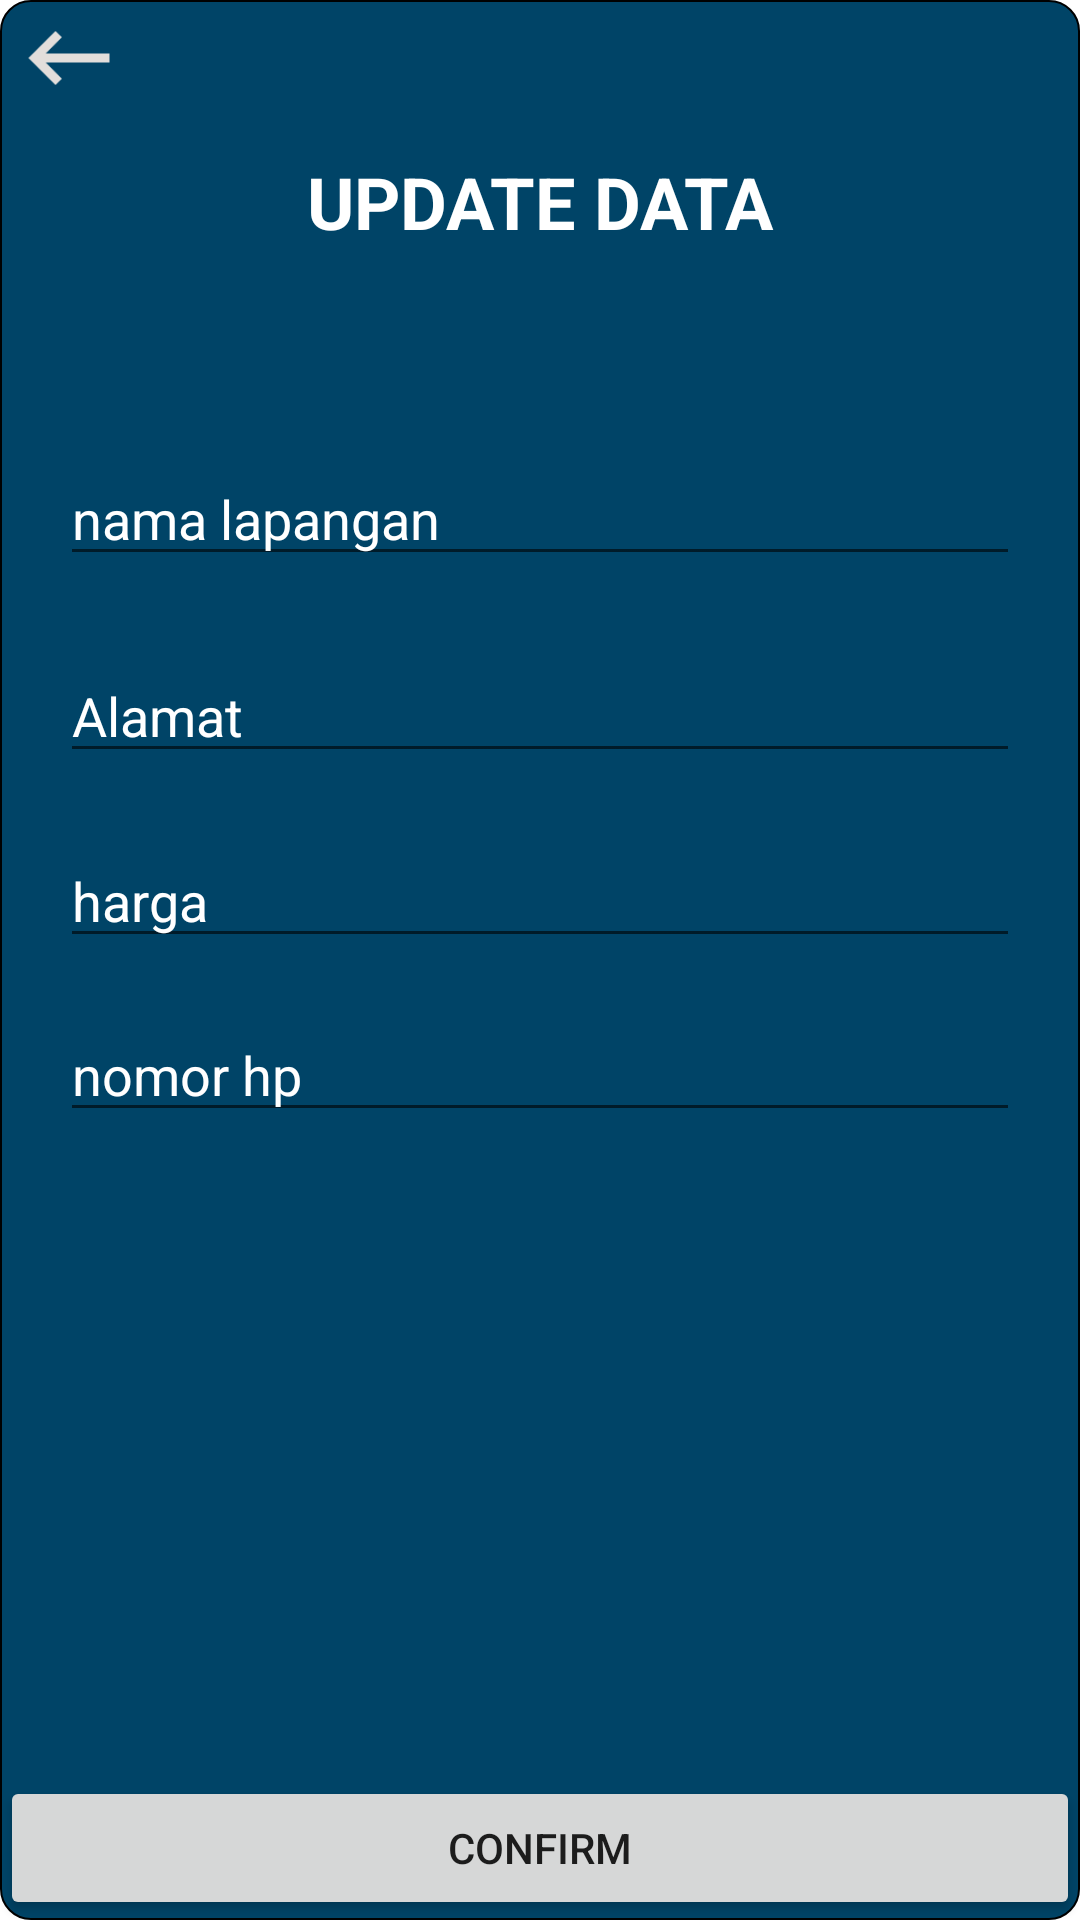

Point at icon controls on the screen. Image size 1080w x 1920h, points as point (x, y).
back: point (69, 58)
